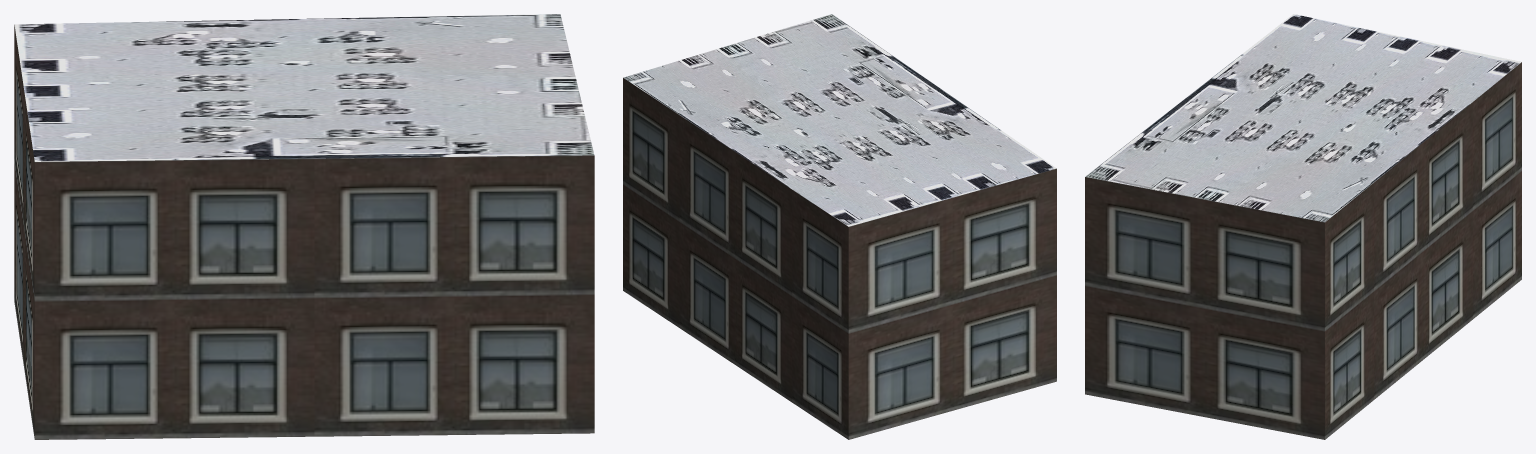
Rendered from ResTex__4018.fbx.
3 renders of one model, left to right at view 1: azimuth 30°, elevation 25°; view 2: azimuth 150°, elevation 25°; view 3: azimuth 270°, elevation 25°, orthographic. The views are drawn at different scales.
Visible parts, largest first — view 1: CityEngineMaterial_16_m, CityEngineMaterial_15_m; view 2: CityEngineMaterial_16_m, CityEngineMaterial_15_m; view 3: CityEngineMaterial_16_m, CityEngineMaterial_15_m.
Part boxes in pixels (bbox=[...]): CityEngineMaterial_16_m: bbox=[14, 25, 594, 439]; CityEngineMaterial_15_m: bbox=[14, 14, 594, 161]; CityEngineMaterial_16_m: bbox=[623, 78, 1056, 439]; CityEngineMaterial_15_m: bbox=[623, 14, 1056, 226]; CityEngineMaterial_16_m: bbox=[1085, 62, 1521, 439]; CityEngineMaterial_15_m: bbox=[1085, 14, 1521, 222].
Bounding box in the file's own units: 12.33 × 6 × 10.92.
Materials: 2 (2 with a texture image).
